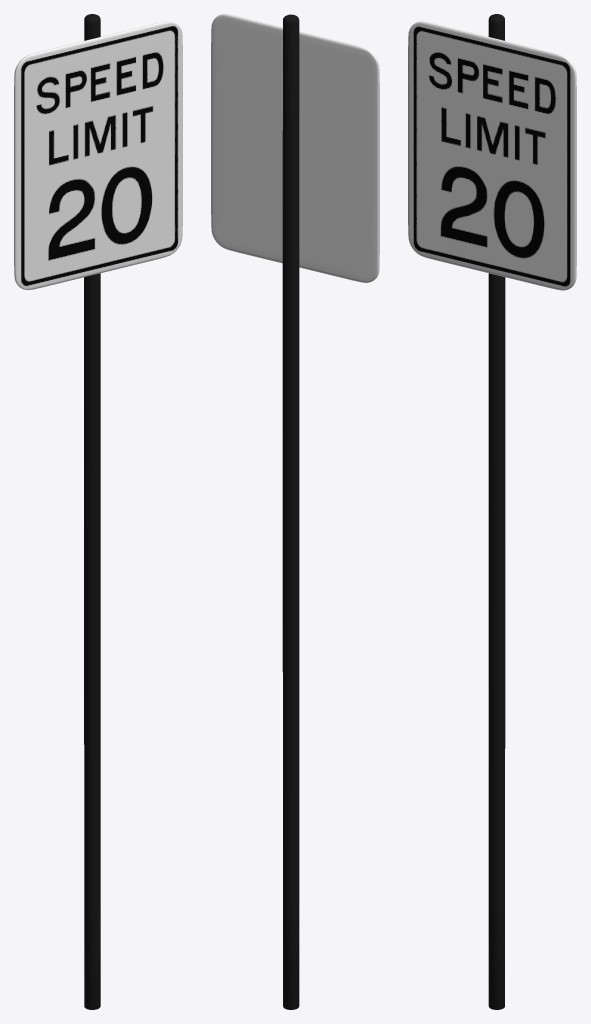
File: speedlimitsign.fbx
The picture shows the model from 3 angles, left to right: view 1: azimuth 30°, elevation 25°; view 2: azimuth 150°, elevation 25°; view 3: azimuth 330°, elevation 25°; orthographic projection.
Visible parts, largest first — view 1: speedlimitsign_merged_mesh_result; view 2: speedlimitsign_merged_mesh_result; view 3: speedlimitsign_merged_mesh_result.
Part boxes in pixels (left/top/right/bottom): speedlimitsign_merged_mesh_result: left=14, top=14, right=182, bottom=1009; speedlimitsign_merged_mesh_result: left=211, top=14, right=379, bottom=1009; speedlimitsign_merged_mesh_result: left=408, top=14, right=576, bottom=1009.
Size of the model in its own units: 33.39 by 188 by 3.51.
2 materials, 2 textured.
